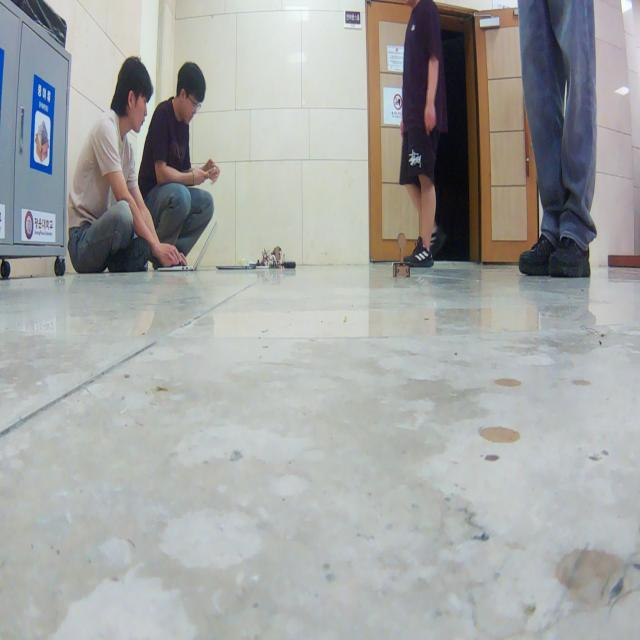target: (392, 232, 411, 278)
